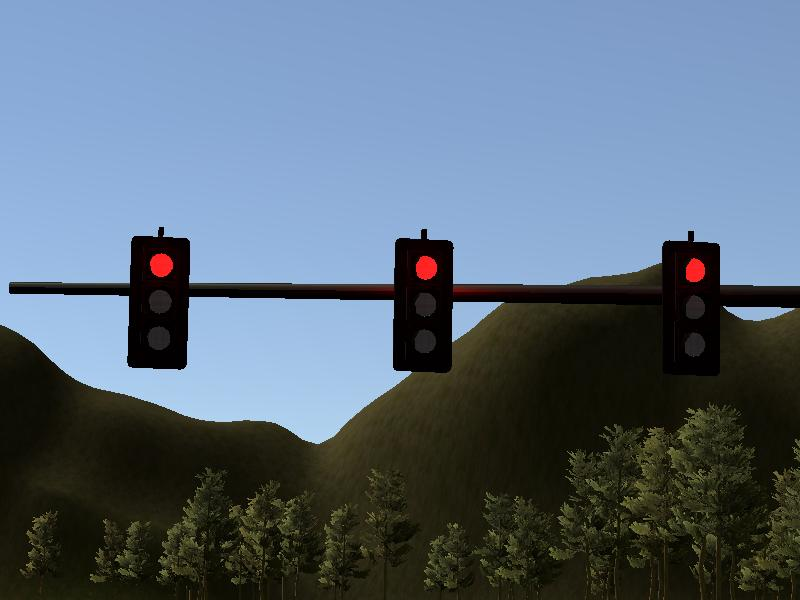red: (392, 236, 454, 372), (128, 235, 190, 369), (661, 239, 721, 377)
